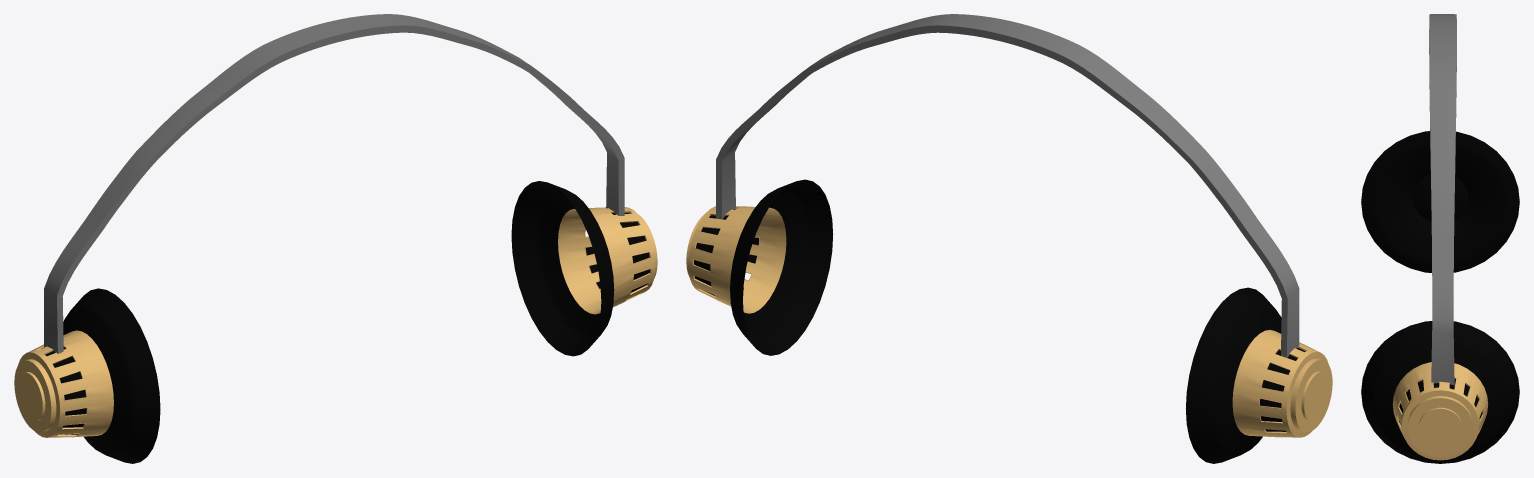
3 renders of one model, left to right at view 1: azimuth 30°, elevation 25°; view 2: azimuth 150°, elevation 25°; view 3: azimuth 270°, elevation 25°, orthographic. The views are drawn at different scales.
Parts seen in each view (by area): view 1: Circle.005; view 2: Circle.005; view 3: Circle.005.
Part boxes in pixels (x1,y1,x2,y2): Circle.005: (14, 14, 657, 463); Circle.005: (686, 14, 1332, 463); Circle.005: (1361, 14, 1519, 463).
Size of the model in its own units: 158 by 92.66 by 40.27.
